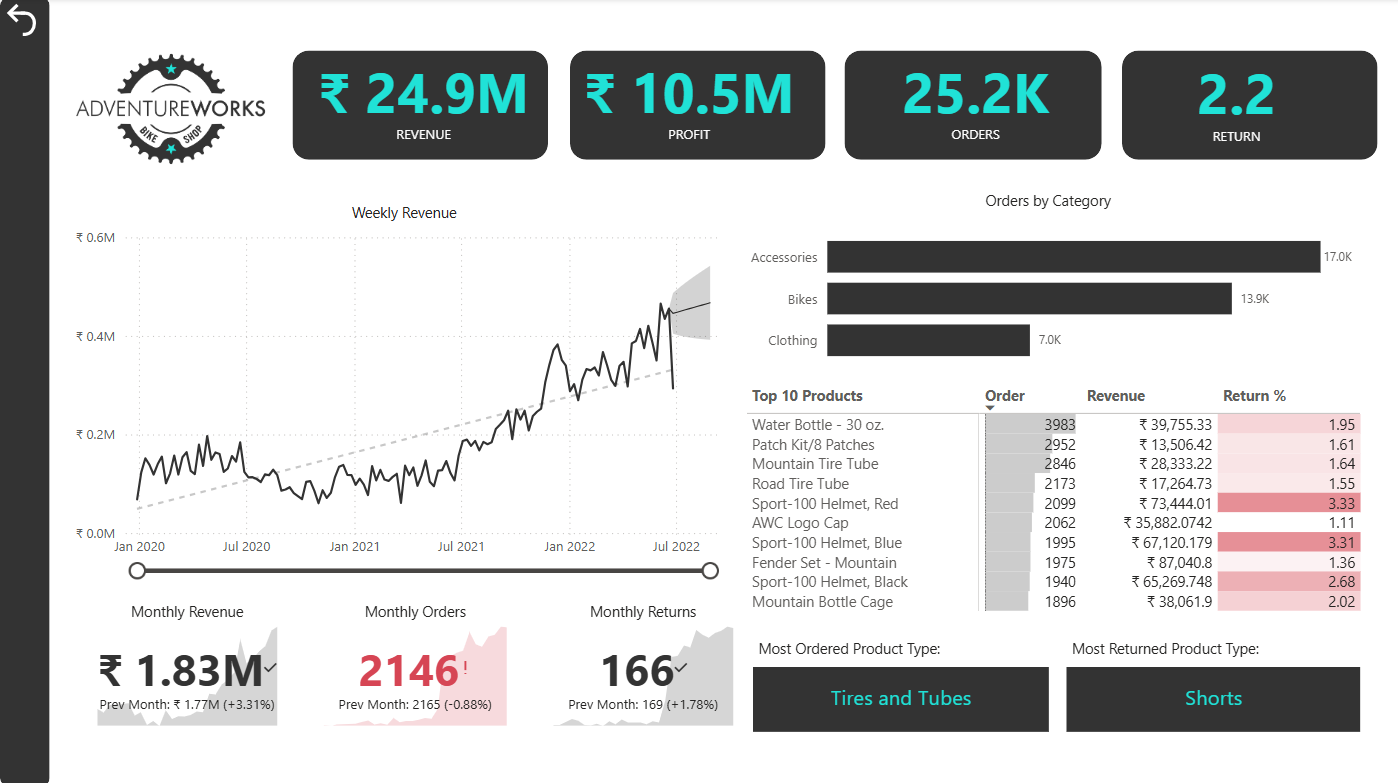

This screenshot's page, from the dashboard's own definition file:
{"tool":"powerbi","page":{"name":"Exec","canvas":[1280,720],"ordinal":0},"visuals":[{"type":"image","title":"AW logo","box":[45.6,16.2,222.1,170.6],"z":0},{"type":"card","fields":{"Values":["Measure Table.Total Revenue"]},"box":[258.8,16.2,255.9,150],"z":0,"group":"g3"},{"type":"shape","box":[267.6,47.1,233.8,100],"z":0,"group":"g1"},{"type":"shape","title":"left pane background","box":[0,0,45.6,720.6],"z":1000},{"type":"card","fields":{"Values":["Measure Table.Total Profit"]},"box":[501.4,16.2,255.9,150],"z":1000,"group":"g3"},{"type":"shape","box":[522,47.1,233.8,100],"z":1000,"group":"g1"},{"type":"group","id":"g1","title":"KPI background","box":[267.6,47.1,992.6,100],"z":1500,"group":"g2"},{"type":"group","id":"g2","title":"KPI","box":[258.8,16.2,1001.5,151.2],"z":2000},{"type":"group","id":"g3","title":"KPI values","box":[258.8,16.2,1000.3,151.2],"z":2000,"group":"g2"},{"type":"card","fields":{"Values":["Measure Table.Total Order"]},"box":[763.2,16.2,255.9,150],"z":2000,"group":"g3"},{"type":"shape","box":[772,47.1,235.3,100],"z":2000,"group":"g1"},{"type":"card","fields":{"Values":["Measure Table.Return Rate"]},"box":[1003.2,17.4,255.9,150],"z":3000,"group":"g3"},{"type":"shape","box":[1026.4,47.1,233.8,100],"z":3000,"group":"g1"},{"type":"lineChart","title":"Weekly Revenue","fields":{"Y":["Measure Table.Total Revenue"],"Category":["Calendar Lookup.Start of Week"]},"box":[63.2,186.8,613.2,348.5],"z":3000},{"type":"kpi","title":"Monthly Revenue","fields":{"Indicator":["Measure Table.Total Revenue"],"TrendLine":["Calendar Lookup.Start of Month"],"Goal":["Measure Table.Prevoius Month Revenue"]},"box":[83.8,551.5,175,119.1],"z":4000},{"type":"kpi","title":"Monthly Orders","fields":{"Indicator":["Measure Table.Total Order"],"Goal":["Measure Table.Previous Month Orders"],"TrendLine":["Calendar Lookup.Start of Month"]},"box":[291.2,551.5,177.9,119.1],"z":5000},{"type":"kpi","title":"Monthly Returns","fields":{"TrendLine":["Calendar Lookup.Start of Month"],"Indicator":["Measure Table.Total Return"],"Goal":["Measure Table.Prevoius Month Return"]},"box":[501.5,551.5,175,119.1],"z":6000},{"type":"barChart","title":"Orders by Category","fields":{"Category":["Product Categories Lookup.CategoryName"],"Y":["Measure Table.Total Order"]},"box":[676.5,175,564.7,173.5],"z":7000},{"type":"pivotTable","fields":{"Rows":["Product Lookup.ProductName"],"Values":["Measure Table.Total Order","Measure Table.Total Revenue","Measure Table.Return Rate"]},"box":[677.9,348.5,582.4,222.1],"z":8000},{"type":"card","fields":{"Values":["Min(Product Subcategories Lookup.SubcategoryName)"]},"box":[688.9,612.1,270.3,59],"z":9000},{"type":"textbox","box":[688.9,580.5,189.4,31.6],"z":10000},{"type":"card","fields":{"Values":["Min(Product Subcategories Lookup.SubcategoryName)"]},"box":[975.7,612.1,269,59],"z":11000},{"type":"textbox","box":[688.9,580.5,189.4,31.6],"z":12000},{"type":"textbox","box":[975.7,580.5,189.4,31.6],"z":13000},{"type":"actionButton","box":[0,0,45.3,39.8],"z":14000}]}

Visuals, with their boxes on the page's 1280x720 design canvas (x1, y1, x2, y2). These are canvas units, not pixel positions in the 1398x783 screenshot, which may show the page scaled, cropped or inside an application window:
"AW logo" image: <bbox>46, 16, 268, 187</bbox>
card - Measure Table.Total Revenue: <bbox>259, 16, 515, 166</bbox>
shape: <bbox>268, 47, 501, 147</bbox>
"left pane background" shape: <bbox>0, 0, 46, 721</bbox>
card - Measure Table.Total Profit: <bbox>501, 16, 757, 166</bbox>
shape: <bbox>522, 47, 756, 147</bbox>
"KPI background" group: <bbox>268, 47, 1260, 147</bbox>
"KPI" group: <bbox>259, 16, 1260, 167</bbox>
"KPI values" group: <bbox>259, 16, 1259, 167</bbox>
card - Measure Table.Total Order: <bbox>763, 16, 1019, 166</bbox>
shape: <bbox>772, 47, 1007, 147</bbox>
card - Measure Table.Return Rate: <bbox>1003, 17, 1259, 167</bbox>
shape: <bbox>1026, 47, 1260, 147</bbox>
"Weekly Revenue" lineChart: <bbox>63, 187, 676, 535</bbox>
"Monthly Revenue" kpi: <bbox>84, 552, 259, 671</bbox>
"Monthly Orders" kpi: <bbox>291, 552, 469, 671</bbox>
"Monthly Returns" kpi: <bbox>502, 552, 676, 671</bbox>
"Orders by Category" barChart: <bbox>676, 175, 1241, 348</bbox>
pivotTable - Product Lookup.ProductName x Measure Table.Total Order: <bbox>678, 348, 1260, 571</bbox>
card - Min(Product Subcategories Lookup.SubcategoryName): <bbox>689, 612, 959, 671</bbox>
textbox: <bbox>689, 580, 878, 612</bbox>
card - Min(Product Subcategories Lookup.SubcategoryName): <bbox>976, 612, 1245, 671</bbox>
textbox: <bbox>689, 580, 878, 612</bbox>
textbox: <bbox>976, 580, 1165, 612</bbox>
actionButton: <bbox>0, 0, 45, 40</bbox>
